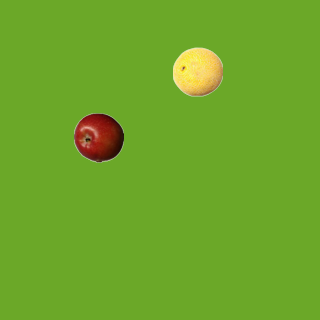Apple Braeburn: (73, 112, 123, 162)
Cantaloupe 1: (172, 46, 222, 96)
